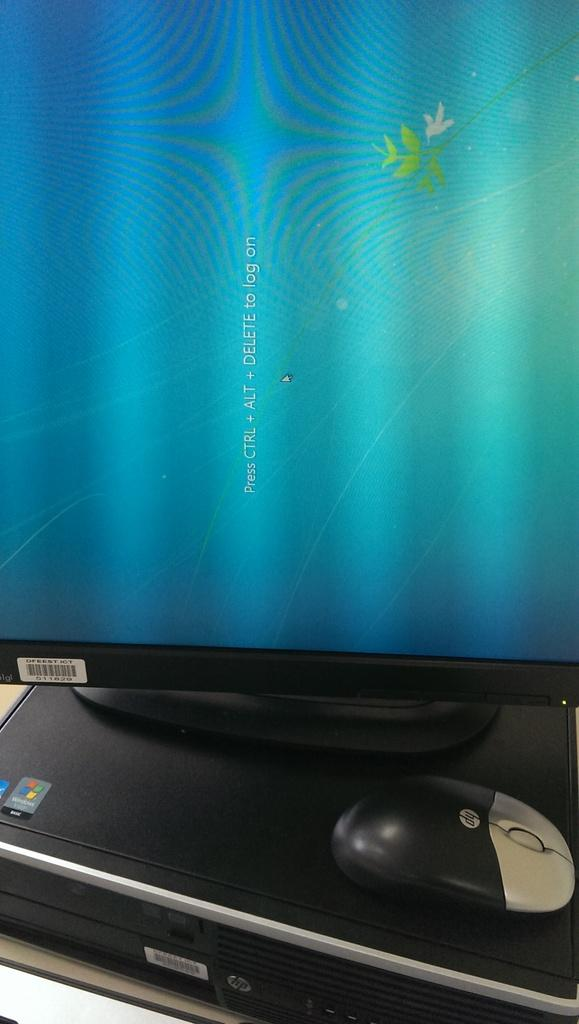Computer-mouse: (327, 770, 578, 924)
